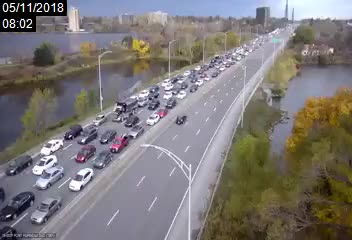congestion: (2, 121, 143, 226), (80, 91, 182, 139), (144, 61, 218, 101), (201, 50, 240, 70)
personal_car: (1, 190, 34, 220), (32, 196, 62, 225), (34, 166, 64, 187), (68, 168, 94, 192), (5, 154, 33, 176), (28, 155, 59, 174), (74, 144, 96, 163), (91, 149, 111, 169), (40, 139, 62, 157), (108, 136, 129, 154), (76, 127, 97, 144), (127, 122, 145, 138), (64, 125, 83, 140), (97, 129, 115, 143), (122, 115, 141, 127), (91, 113, 107, 127), (146, 112, 160, 125), (147, 98, 160, 109), (174, 115, 187, 125), (154, 107, 168, 116), (176, 90, 187, 101), (164, 98, 176, 108), (188, 83, 199, 92), (136, 97, 147, 106), (160, 77, 170, 86), (161, 90, 171, 99), (148, 84, 159, 92), (178, 81, 188, 89), (173, 73, 182, 81), (138, 88, 147, 96), (163, 83, 173, 90), (176, 77, 184, 85), (195, 78, 203, 85), (190, 75, 197, 83), (199, 72, 207, 78), (182, 69, 189, 75)
truck: (108, 98, 137, 122)
